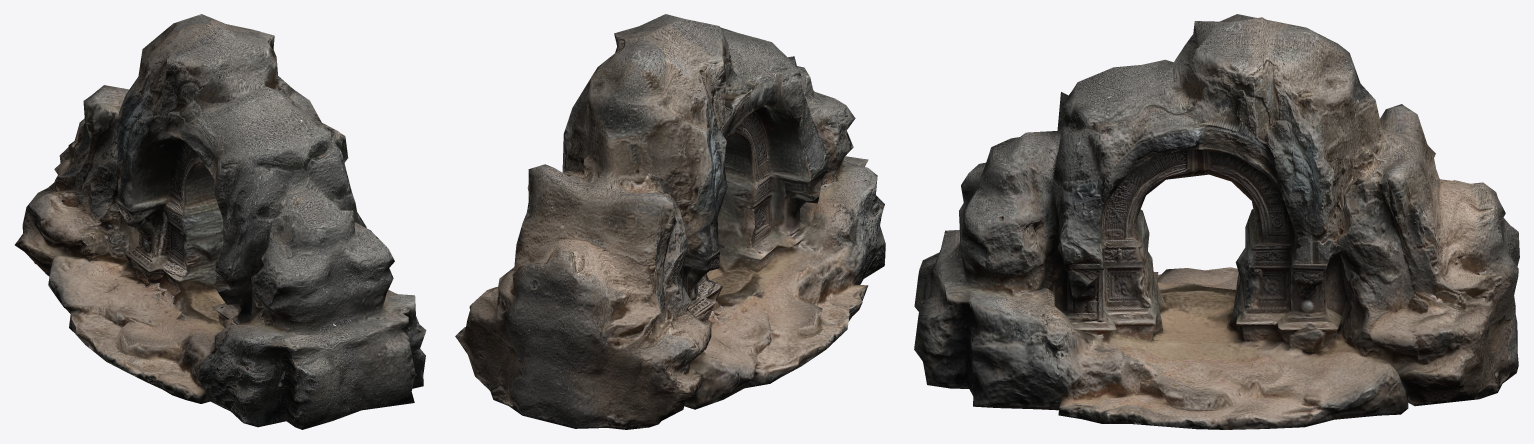
File: cave_enter_a.glb
3 renders of one model, left to right at view 1: azimuth 30°, elevation 25°; view 2: azimuth 150°, elevation 25°; view 3: azimuth 270°, elevation 25°, orthographic. The views are drawn at different scales.
Parts seen in each view (by area): view 1: tripo_node_18c759f8-8083-4043-8855-e783a6a7d873; view 2: tripo_node_18c759f8-8083-4043-8855-e783a6a7d873; view 3: tripo_node_18c759f8-8083-4043-8855-e783a6a7d873.
Boxes of the visible parts, <box> form: tripo_node_18c759f8-8083-4043-8855-e783a6a7d873: <box>15,14,426,429</box>; tripo_node_18c759f8-8083-4043-8855-e783a6a7d873: <box>455,14,885,429</box>; tripo_node_18c759f8-8083-4043-8855-e783a6a7d873: <box>914,14,1519,429</box>.
Bounding box in the file's own units: 0.5882 × 0.6113 × 0.9823.
1 material, 1 textured.
